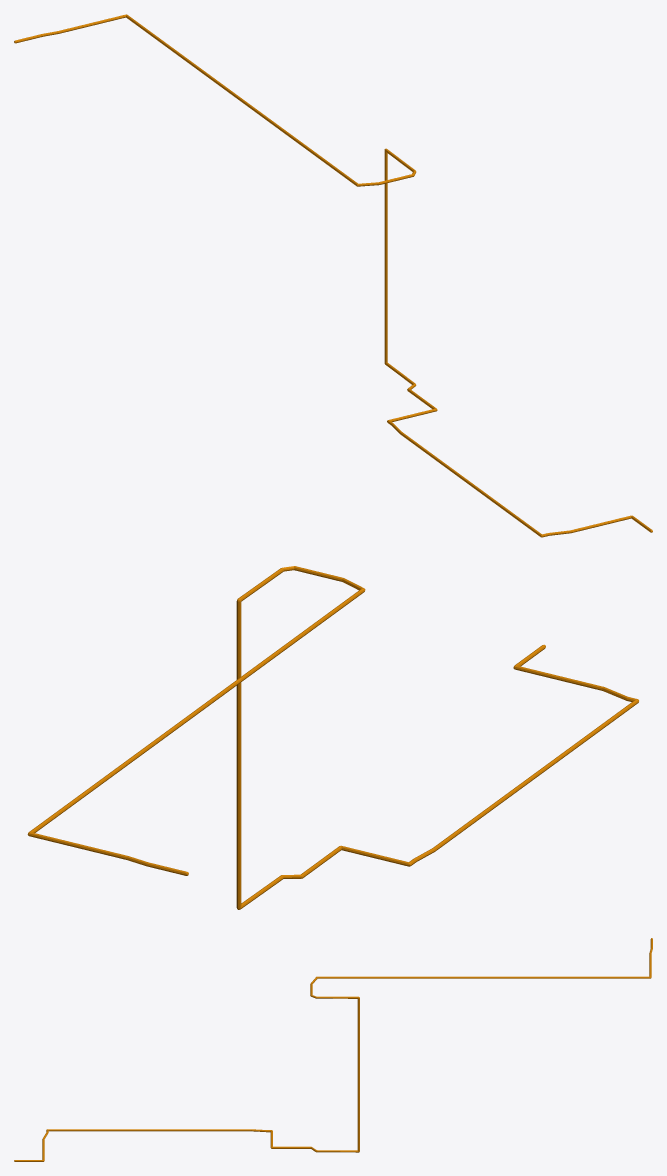
3 renders of one model, top to bottom at view 1: azimuth 30°, elevation 25°; view 2: azimuth 150°, elevation 25°; view 3: azimuth 270°, elevation 25°, orthographic. The views are drawn at different scales.
Bounding box in the file's own units: 1449 × 1520 × 5655.
